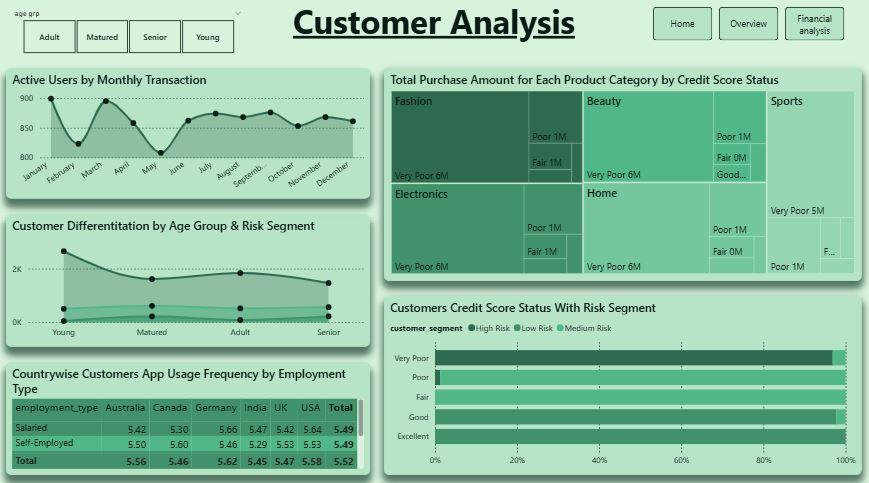

The dashboard page shown, as its layout file describes it:
{"tool":"powerbi","page":{"name":"Customer analysis","canvas":[1280,720],"ordinal":3},"visuals":[{"type":"areaChart","title":"Customer Differentitation by Age Group & Risk Segment","fields":{"Y":["CountNonNull(Buy_Now_Pay_Later_BNPL_CreditRisk_Dataset.user_id)"],"Series":["Buy_Now_Pay_Later_BNPL_CreditRisk_Dataset.customer_segment"],"Category":["Buy_Now_Pay_Later_BNPL_CreditRisk_Dataset.age grp"]},"box":[11.8,321.8,534.9,195.4],"z":0},{"type":"lineChart","title":"Active Users by Monthly Transaction","fields":{"Y":["CountNonNull(Buy_Now_Pay_Later_BNPL_CreditRisk_Dataset.user_id)"],"Category":["Buy_Now_Pay_Later_BNPL_CreditRisk_Dataset.transaction_date.Variation.Date Hierarchy.Month"]},"box":[11.8,107.3,534.9,192.5],"z":1000},{"type":"pivotTable","title":"Countrywise Customers App Usage Frequency by Employment Type","fields":{"Rows":["Buy_Now_Pay_Later_BNPL_CreditRisk_Dataset.employment_type"],"Columns":["Buy_Now_Pay_Later_BNPL_CreditRisk_Dataset.location"],"Values":["Avg(Buy_Now_Pay_Later_BNPL_CreditRisk_Dataset.app_usage_frequency)"]},"box":[11.8,539.3,534.9,166],"z":2000},{"type":"slicer","fields":{"Values":["Buy_Now_Pay_Later_BNPL_CreditRisk_Dataset.age grp"]},"box":[11.8,16.2,358.5,76.4],"z":3000},{"type":"treemap","title":"Total Purchase Amount for Each Product Category by Credit Score Status","fields":{"Group":["Buy_Now_Pay_Later_BNPL_CreditRisk_Dataset.product_category"],"Values":["Sum(Buy_Now_Pay_Later_BNPL_CreditRisk_Dataset.purchase_amount)"],"Details":["Buy_Now_Pay_Later_BNPL_CreditRisk_Dataset.credit score status"]},"box":[567.2,107.3,702.4,313],"z":4000},{"type":"hundredPercentStackedBarChart","title":"Customers Credit Score Status With Risk Segment","fields":{"Category":["Buy_Now_Pay_Later_BNPL_CreditRisk_Dataset.credit score status"],"Series":["Buy_Now_Pay_Later_BNPL_CreditRisk_Dataset.customer_segment"],"Y":["CountNonNull(Buy_Now_Pay_Later_BNPL_CreditRisk_Dataset.user_id)"]},"box":[567.2,442.3,702.4,263],"z":5000},{"type":"textbox","box":[406.4,0,467.3,83.8],"z":5001},{"type":"pageNavigator","box":[962.4,17.6,282.1,50],"z":5002}]}

Visuals, with their boxes in screenshot pixels (x1, y1, x2, y2), scaled from the page's 1280x720 canvas onto the 869x483 screenshot:
"Customer Differentitation by Age Group & Risk Segment" areaChart: <bbox>8, 216, 371, 347</bbox>
"Active Users by Monthly Transaction" lineChart: <bbox>8, 72, 371, 201</bbox>
"Countrywise Customers App Usage Frequency by Employment Type" pivotTable: <bbox>8, 362, 371, 473</bbox>
slicer - Buy_Now_Pay_Later_BNPL_CreditRisk_Dataset.age grp: <bbox>8, 11, 251, 62</bbox>
"Total Purchase Amount for Each Product Category by Credit Score Status" treemap: <bbox>385, 72, 862, 282</bbox>
"Customers Credit Score Status With Risk Segment" hundredPercentStackedBarChart: <bbox>385, 297, 862, 473</bbox>
textbox: <bbox>276, 0, 593, 56</bbox>
pageNavigator: <bbox>653, 12, 845, 45</bbox>
